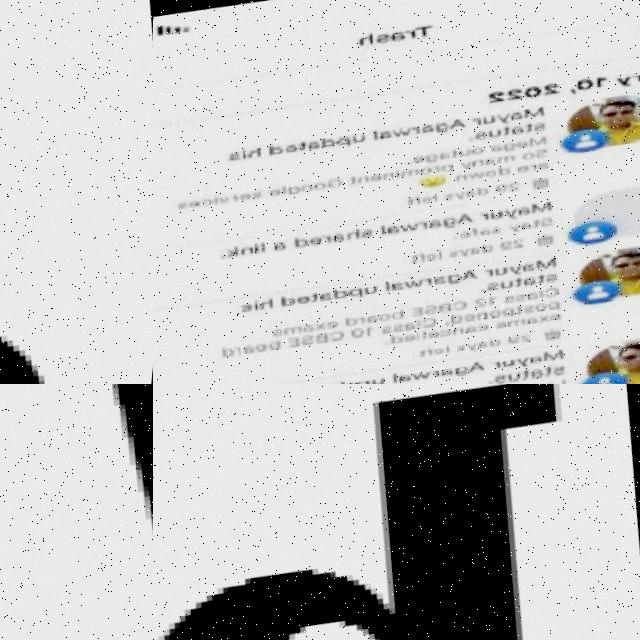0: (576, 74, 597, 87), (525, 82, 543, 95), (357, 324, 370, 335)
1: (596, 72, 611, 84), (494, 293, 501, 300), (372, 324, 379, 331)
2: (543, 79, 561, 92), (506, 85, 524, 98), (489, 87, 507, 100), (480, 293, 493, 304), (510, 179, 522, 187), (517, 235, 528, 243), (526, 330, 537, 338)
9: (503, 236, 517, 247), (497, 181, 511, 189), (512, 332, 526, 340)
B: (170, 384, 557, 640)
D: (33, 384, 153, 640)
G: (0, 0, 141, 384)
